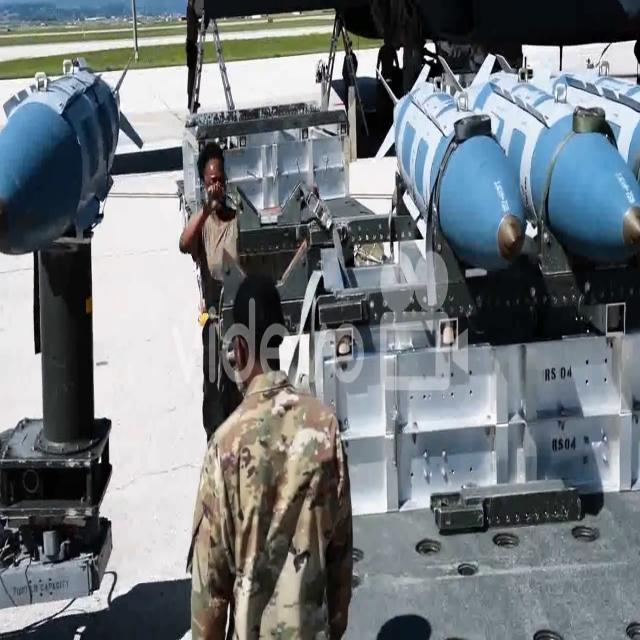rocket: (394, 78, 639, 271), (2, 61, 115, 263)
